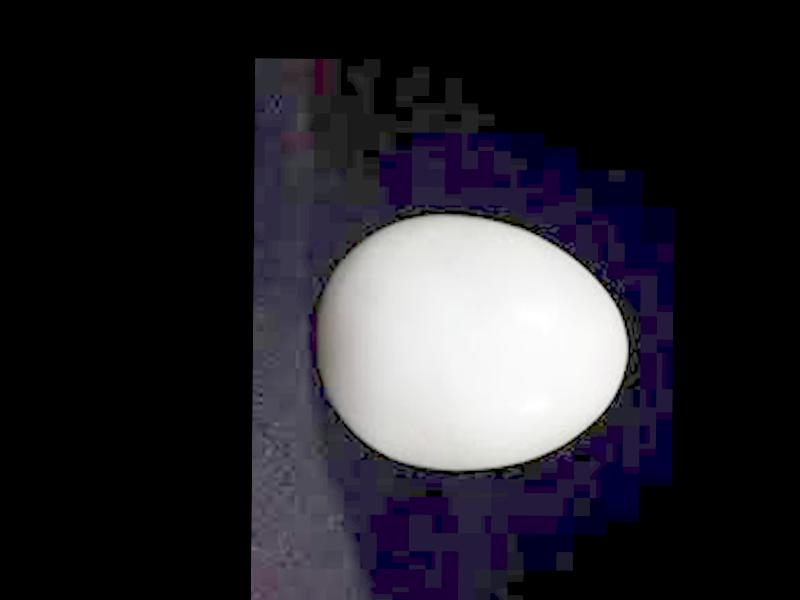Eggs: (313, 218, 626, 469)
